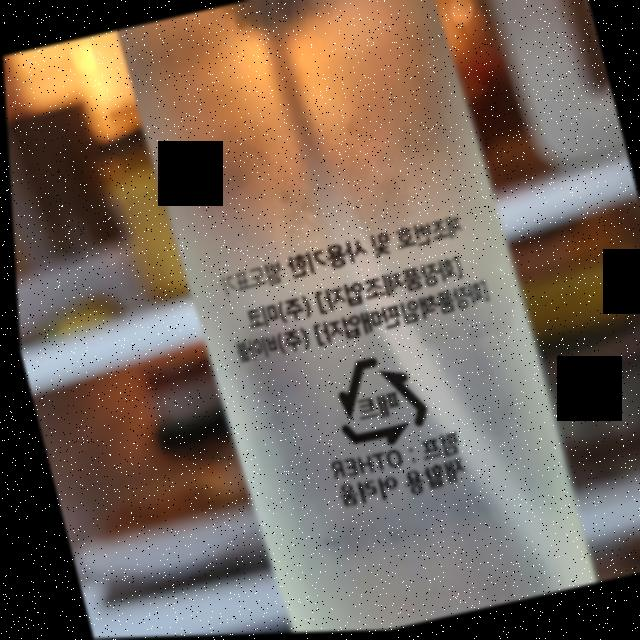PET: (313, 343, 434, 463)
